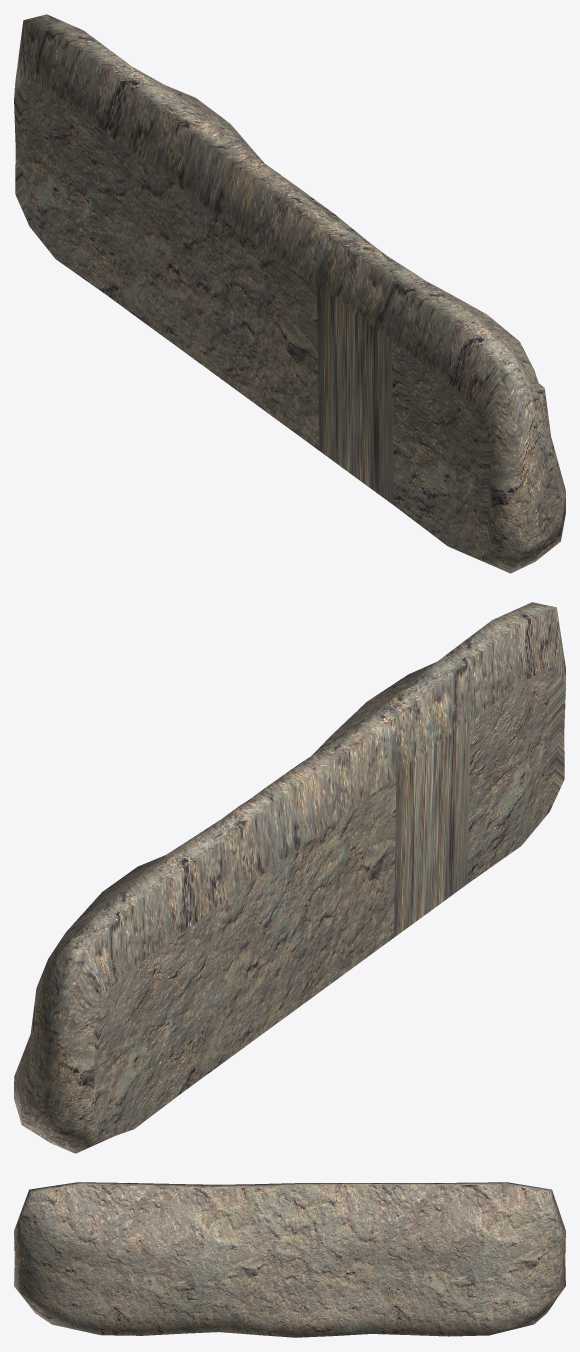
File: ShortRockWall.fbx
3 renders of one model, top to bottom at view 1: azimuth 30°, elevation 25°; view 2: azimuth 150°, elevation 25°; view 3: azimuth 270°, elevation 25°, orthographic. The views are drawn at different scales.
Parts seen in each view (by area): view 1: pCube1; view 2: pCube1; view 3: pCube1.
Boxes of the visible parts, x1,y1,x2,y2 form: pCube1: (14, 14, 565, 573); pCube1: (14, 602, 565, 1153); pCube1: (14, 1182, 565, 1337).
Bounding box in the file's own units: 3.29 × 5.08 × 19.69.
Materials: 1 (1 with a texture image).
